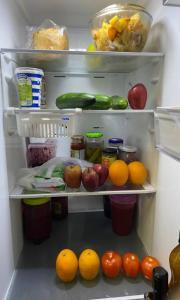Manzana: (127, 82, 148, 110), (64, 165, 82, 190), (84, 166, 99, 190), (94, 164, 108, 186)
Pepino: (55, 93, 95, 108), (94, 94, 113, 110), (112, 94, 128, 109)
Tomate: (102, 250, 122, 278), (122, 252, 142, 278), (141, 256, 160, 280)
Yogur: (16, 67, 44, 108)
